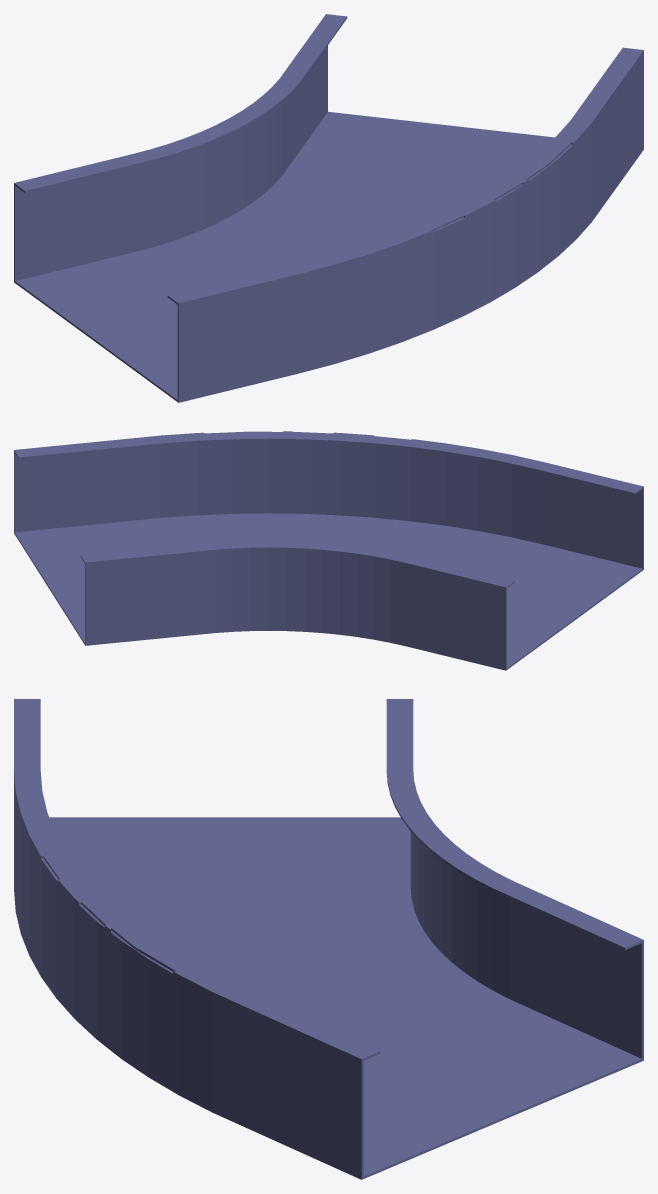
File: elbow45.glb
3 renders of one model, top to bottom at view 1: azimuth 30°, elevation 25°; view 2: azimuth 150°, elevation 25°; view 3: azimuth 270°, elevation 25°, orthographic. The views are drawn at different scales.
Visible parts, largest first — view 1: Mesh_Mesh_head_geo.001_lambert2SG.001; view 2: Mesh_Mesh_head_geo.001_lambert2SG.001; view 3: Mesh_Mesh_head_geo.001_lambert2SG.001.
Part boxes in pixels (left/top/right/bottom): Mesh_Mesh_head_geo.001_lambert2SG.001: left=14, top=14, right=643, bottom=402; Mesh_Mesh_head_geo.001_lambert2SG.001: left=14, top=431, right=643, bottom=670; Mesh_Mesh_head_geo.001_lambert2SG.001: left=14, top=699, right=643, bottom=1179.
Bounding box in the file's own units: 64.05 × 10 × 47.33.
